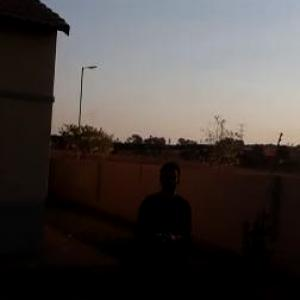follow: (125, 156, 193, 299)
